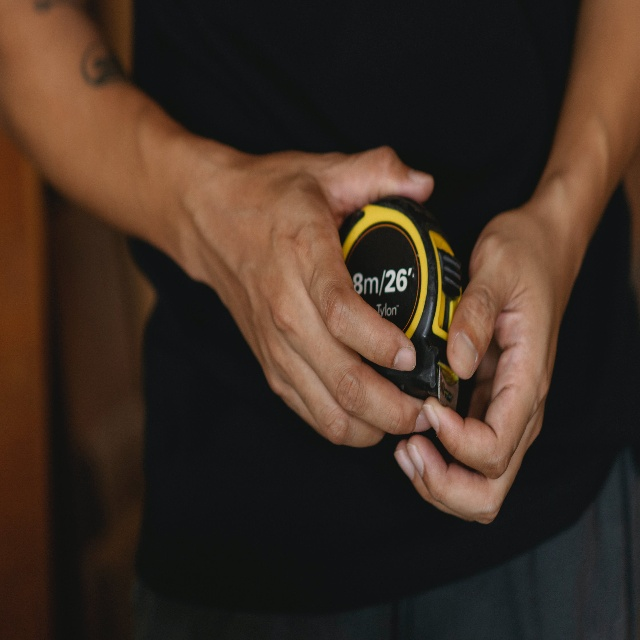Sin_guantes: (198, 146, 436, 449), (392, 190, 574, 525)
